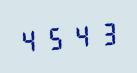five: (43, 22, 67, 53)
four: (18, 24, 42, 55), (68, 20, 92, 50)
three: (93, 17, 117, 48)
